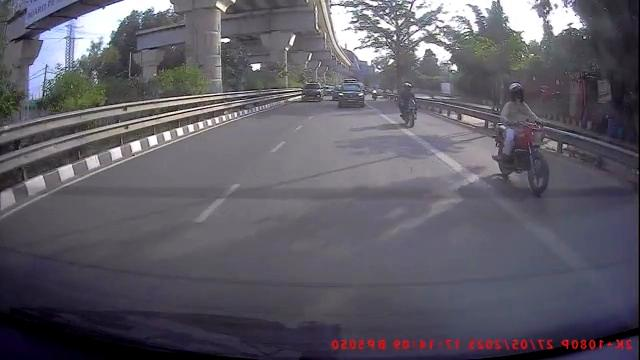motorcycle_with_helmet: (492, 81, 551, 196), (397, 80, 419, 129)
